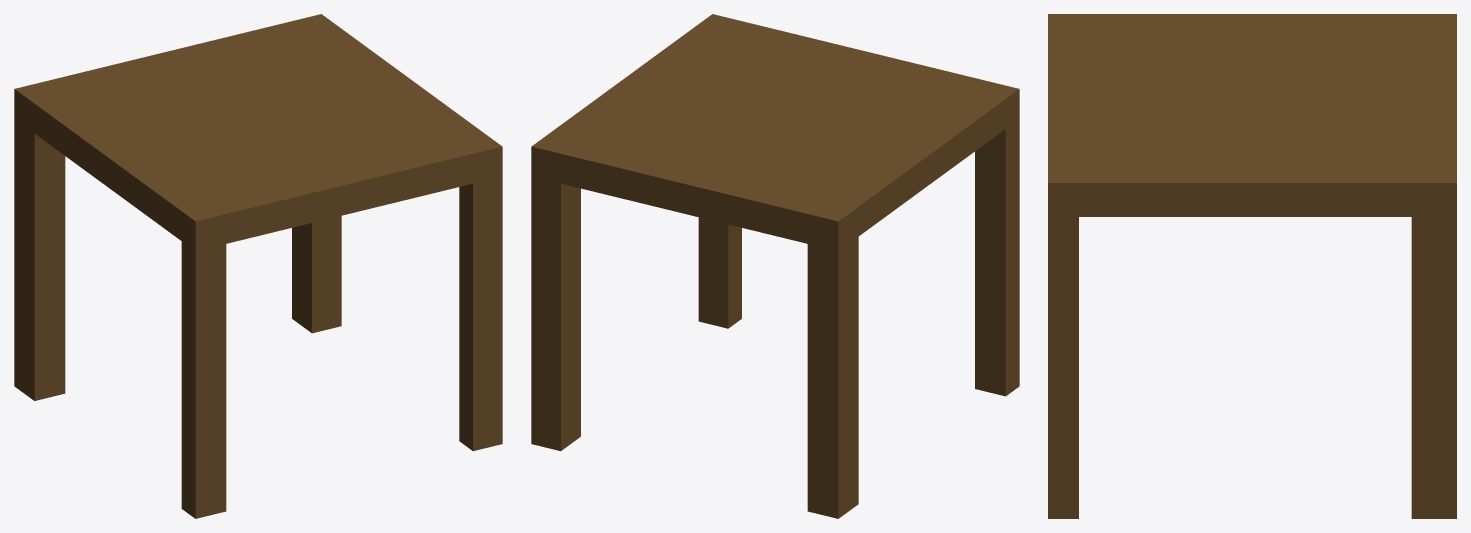
Rendered from table.fbx.
The picture shows the model from 3 angles, left to right: view 1: azimuth 30°, elevation 25°; view 2: azimuth 150°, elevation 25°; view 3: azimuth 270°, elevation 25°; orthographic projection. The views are drawn at different scales.
Visible parts, largest first — view 1: Cube; view 2: Cube; view 3: Cube.
Part boxes in pixels (x1,y1,x2,y2): Cube: (14,14,502,518); Cube: (531,14,1019,518); Cube: (1048,14,1456,518).
Size of the model in its own units: 393 by 364 by 401.
